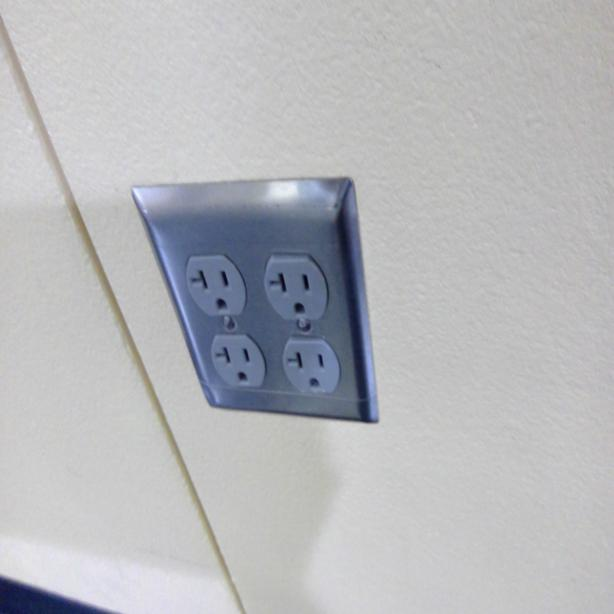typeb: (188, 258, 236, 316), (269, 264, 314, 320), (288, 341, 331, 398), (216, 338, 256, 391)
